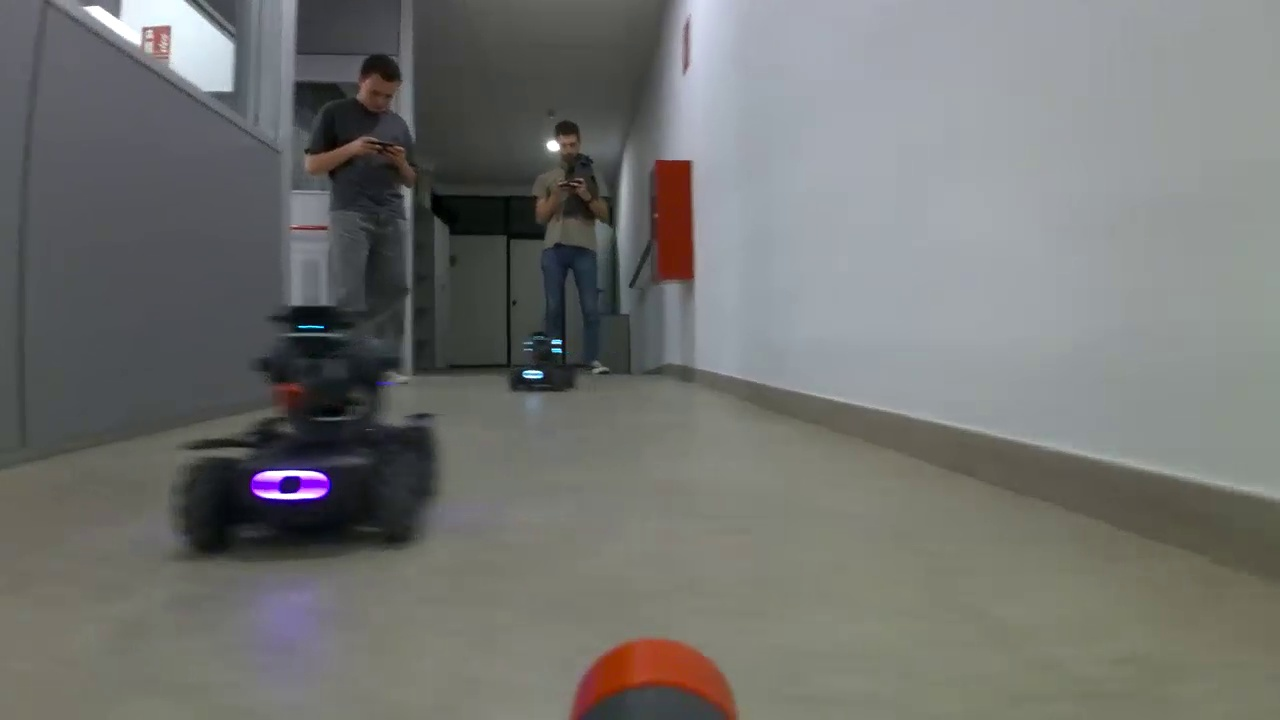robot: (170, 339, 441, 550), (511, 329, 578, 397)
